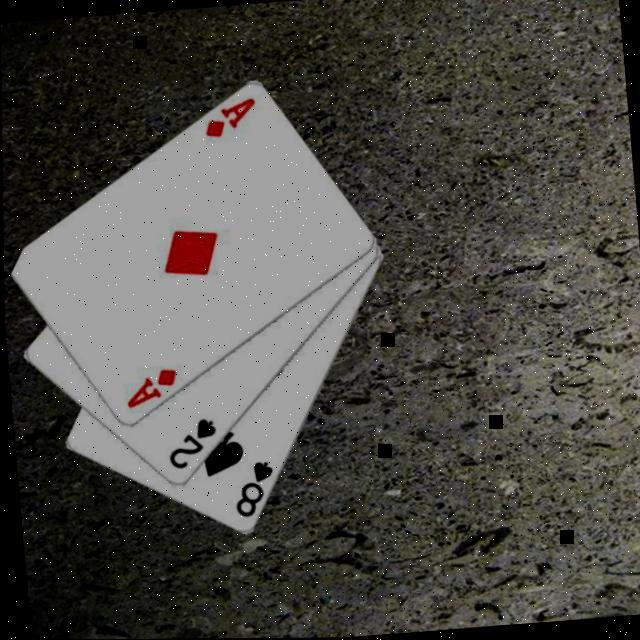2S: (163, 412, 223, 471)
8S: (229, 456, 280, 519)
AD: (200, 93, 262, 140), (121, 363, 183, 409)
